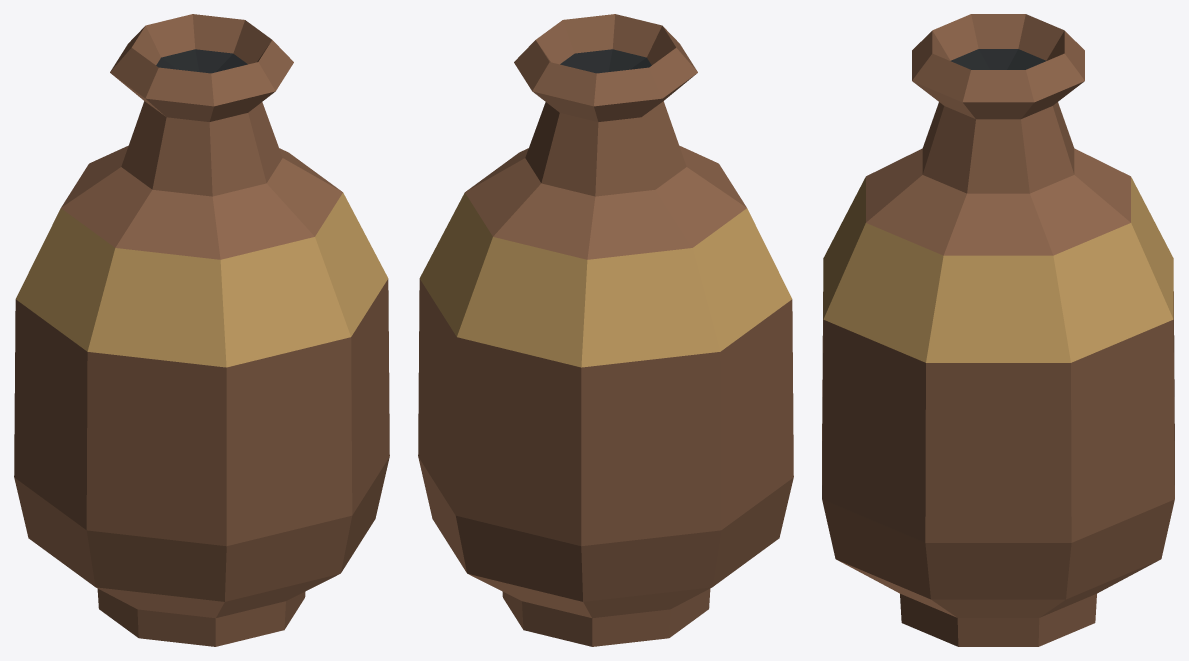
The model's file is SM_Prop_Vase_04.glb.
3 renders of one model, left to right at view 1: azimuth 30°, elevation 25°; view 2: azimuth 150°, elevation 25°; view 3: azimuth 270°, elevation 25°, orthographic.
Visible parts, largest first — view 1: SM_Prop_Vase_04; view 2: SM_Prop_Vase_04; view 3: SM_Prop_Vase_04.
Part boxes in pixels (bbox=[...]): SM_Prop_Vase_04: bbox=[14, 14, 389, 646]; SM_Prop_Vase_04: bbox=[418, 14, 793, 646]; SM_Prop_Vase_04: bbox=[822, 14, 1174, 646].
Size of the model in its own units: 0.4221 by 0.7445 by 0.4221.
Materials: 1 (1 with a texture image).
